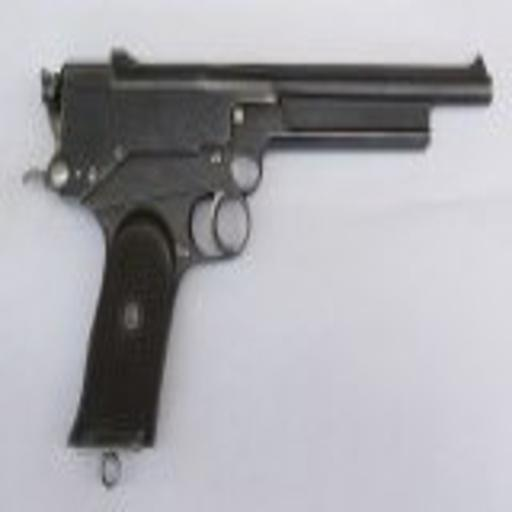Handgun: (21, 45, 495, 485)
